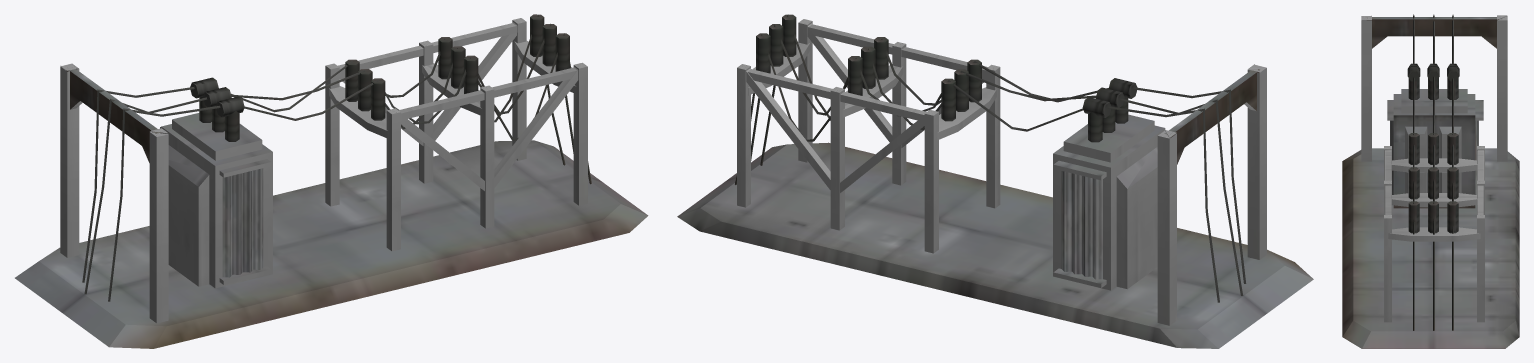
The model's file is ind-substation.zfix-v1.lod1.glb.
The picture shows the model from 3 angles, left to right: view 1: azimuth 30°, elevation 25°; view 2: azimuth 150°, elevation 25°; view 3: azimuth 270°, elevation 25°; orthographic projection. The views are drawn at different scales.
Visible parts, largest first — view 1: Industrial_TsrStation_1_Industrial_Walls_FLR_1_0; view 2: Industrial_TsrStation_1_Industrial_Walls_FLR_1_0; view 3: Industrial_TsrStation_1_Industrial_Walls_FLR_1_0.
Part boxes in pixels (x1,y1,x2,y2): Industrial_TsrStation_1_Industrial_Walls_FLR_1_0: (15, 14, 648, 348); Industrial_TsrStation_1_Industrial_Walls_FLR_1_0: (677, 14, 1313, 348); Industrial_TsrStation_1_Industrial_Walls_FLR_1_0: (1342, 14, 1519, 348).
Bounding box in the file's own units: 11.8 × 4.23 × 4.43.
1 material, 1 textured.
